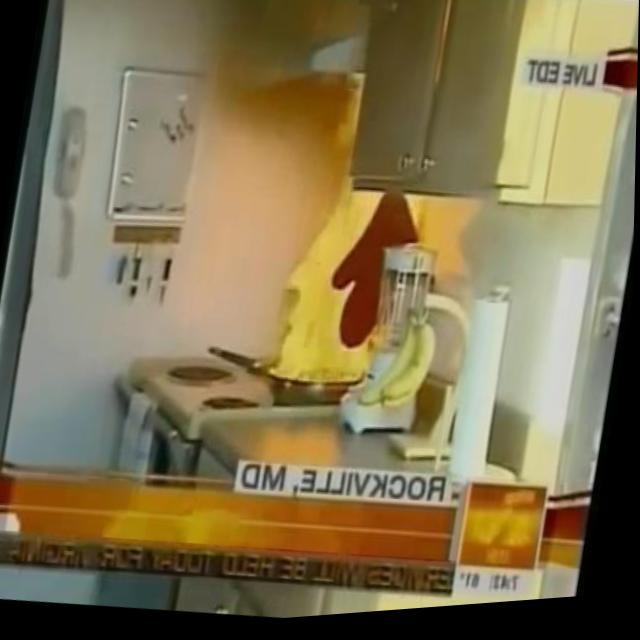fire: (266, 166, 416, 411)
